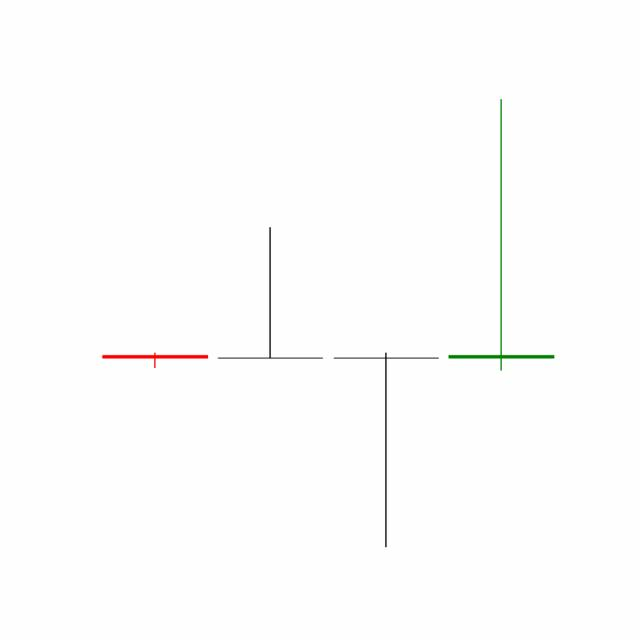Gravestone Doji: (443, 96, 559, 374)
